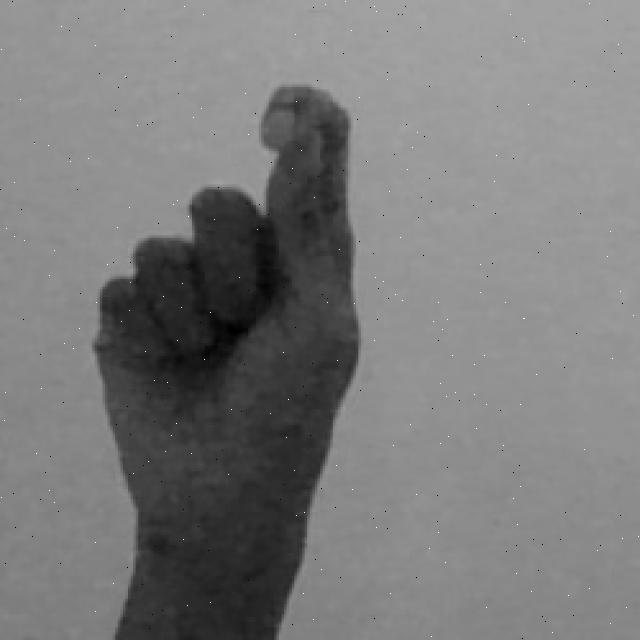T: (86, 77, 370, 640)
